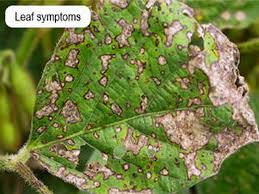Diseased_Leaves: (97, 3, 212, 58), (59, 137, 155, 186), (158, 114, 257, 144), (45, 66, 85, 125), (62, 32, 91, 62), (111, 105, 122, 114), (158, 55, 166, 66), (215, 67, 223, 77), (100, 78, 106, 87), (141, 102, 145, 109)
